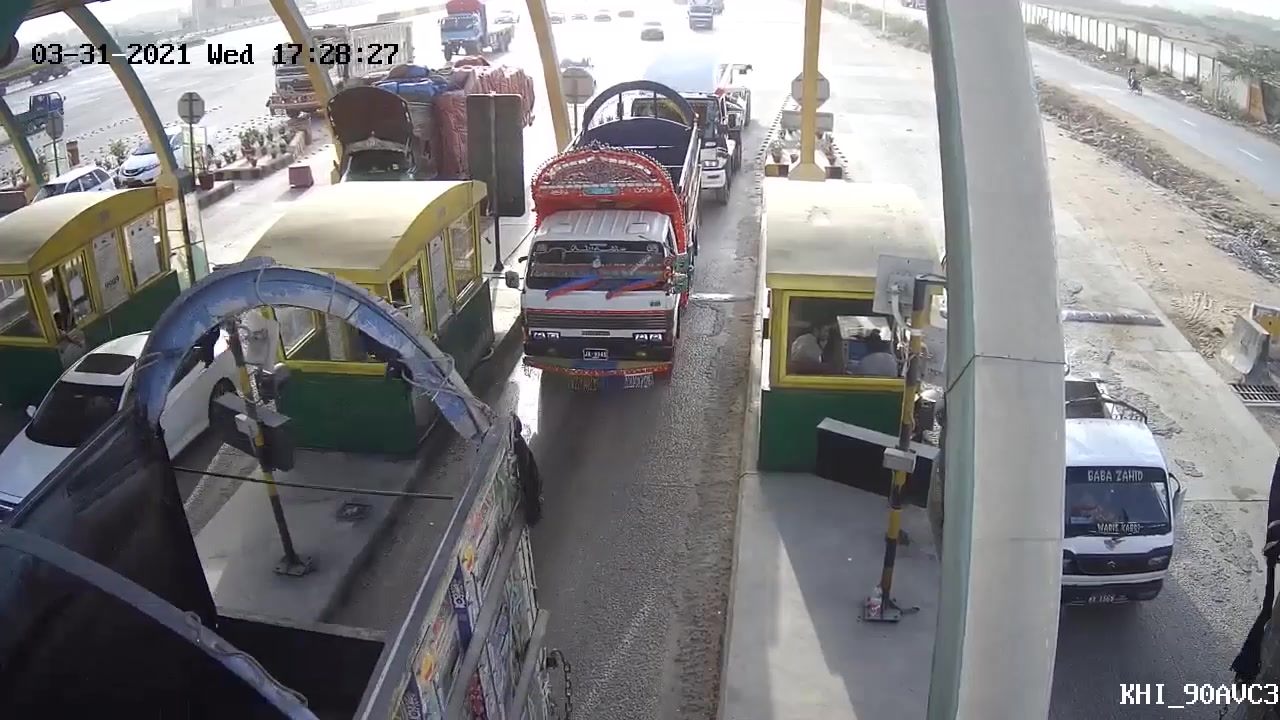F5: (521, 148, 690, 401)
